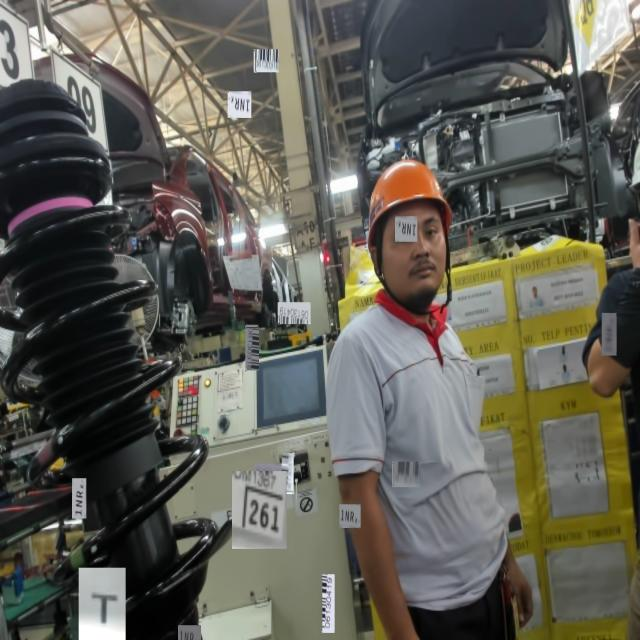Bumper-PK: (5, 186, 99, 245)
Compressor-T: (88, 578, 119, 638)
Engine Assy-261: (235, 482, 285, 544)
